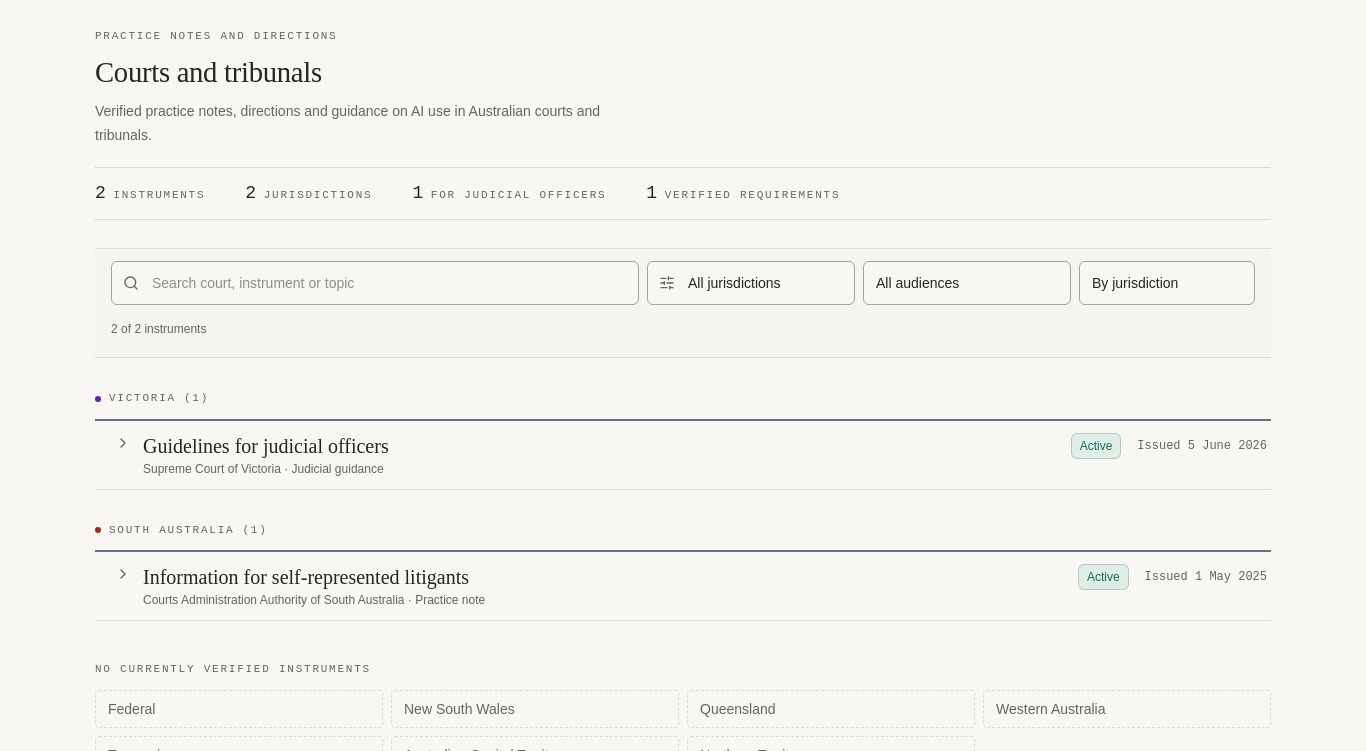
Scenario: CourtsBrowser › shows material exceptions beside the lead rule, outside the quotation
Click the button "Guidelines for judicial officers" at x=266, y=446, box [107,421,1271,489]
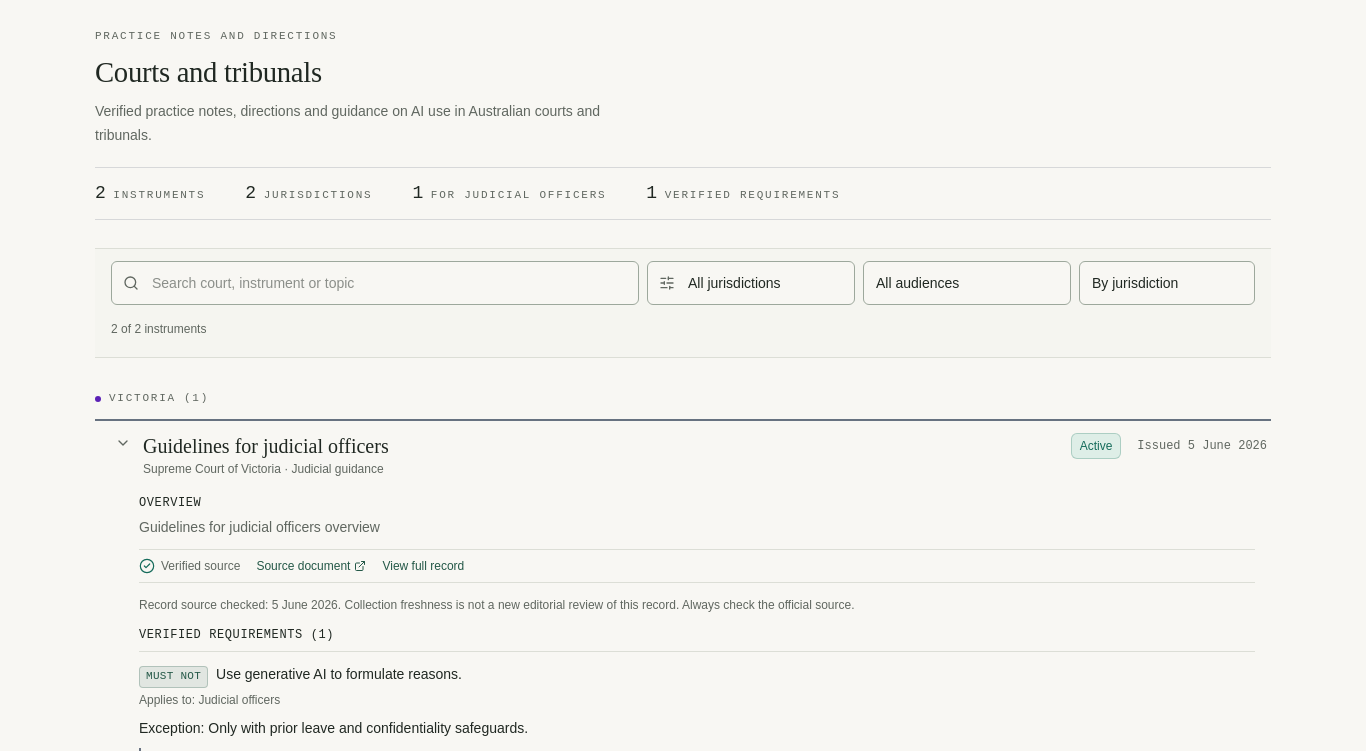
Expected: the text "Exception: Only with prior leave and confidentiality safeguards" is shown, [139,720,528,736]
